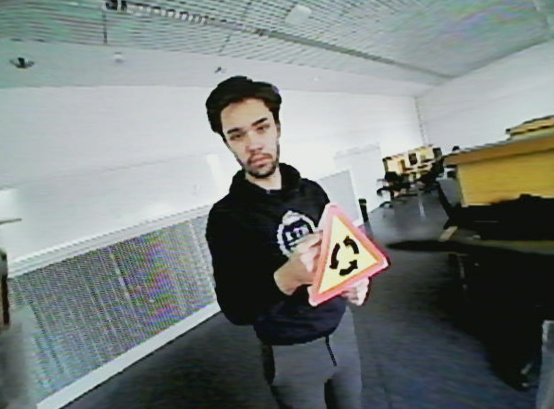roundabout_warning: (307, 203, 385, 311)
